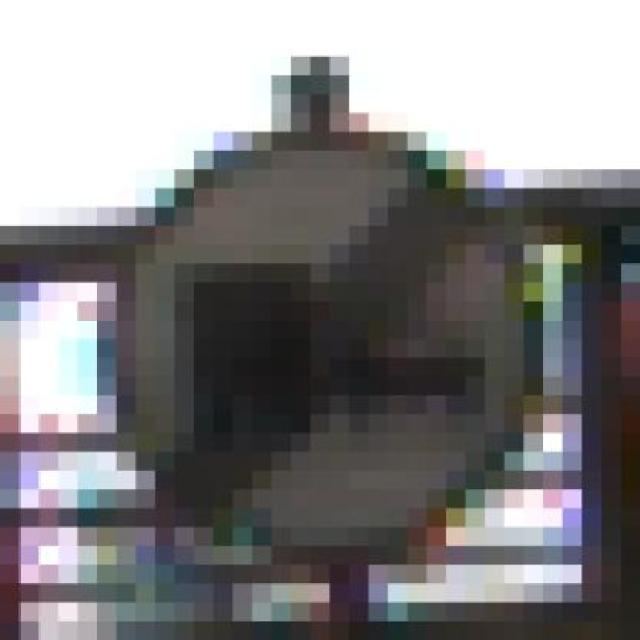Overtaking by trucks is prohibited: (58, 75, 582, 602)
